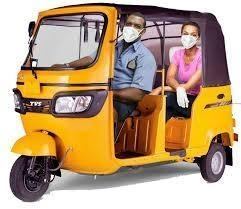keke: (7, 0, 238, 206)
